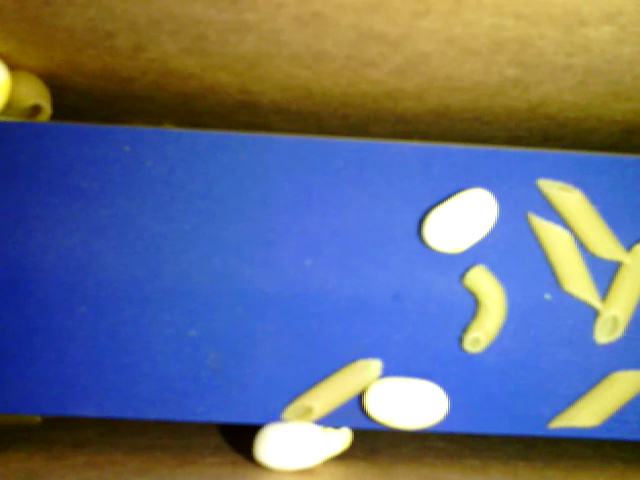elbow: (459, 262, 507, 357)
penne: (535, 177, 635, 266), (526, 212, 606, 314), (279, 353, 382, 423), (547, 368, 639, 430), (593, 244, 638, 347)
shell: (3, 67, 55, 126)
